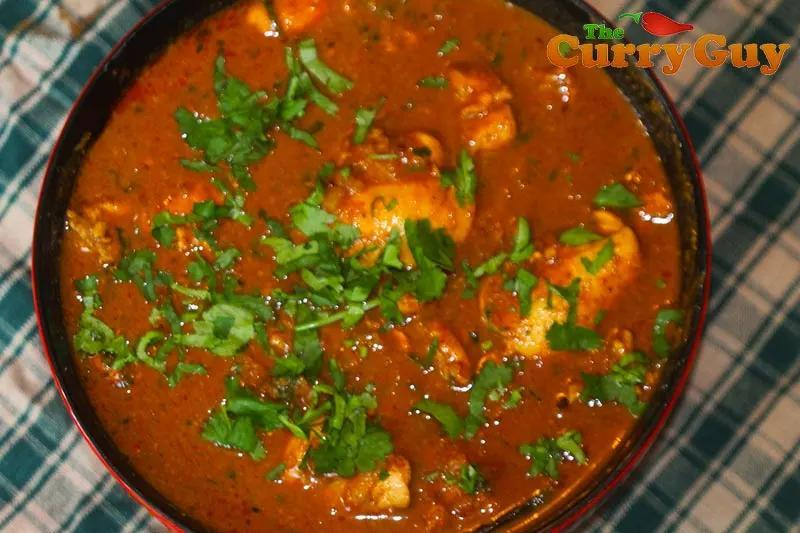chicken: (76, 18, 646, 524)
